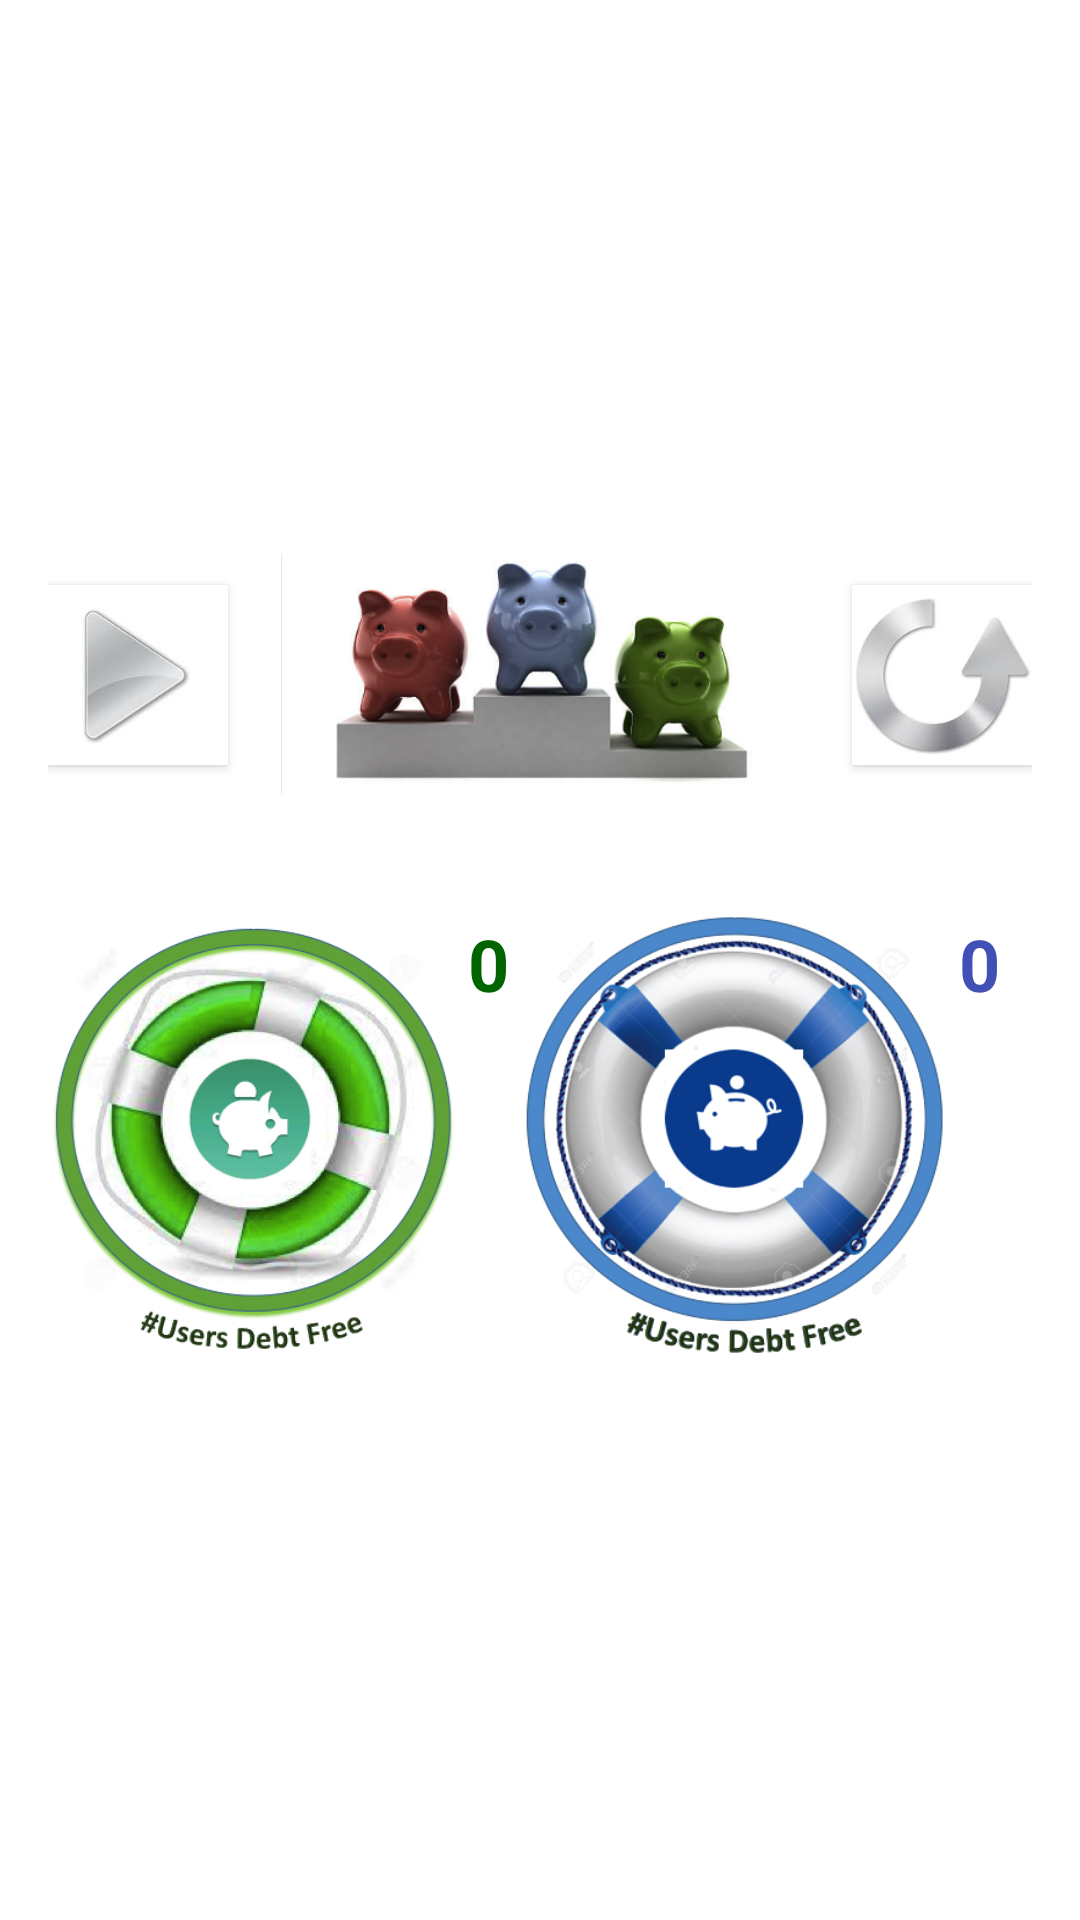

Icons on this 1080 × 1920 Android screen, each with the point to tap as [x,y]:
playsilver: [136,676]
resetsilver: [943,676]
